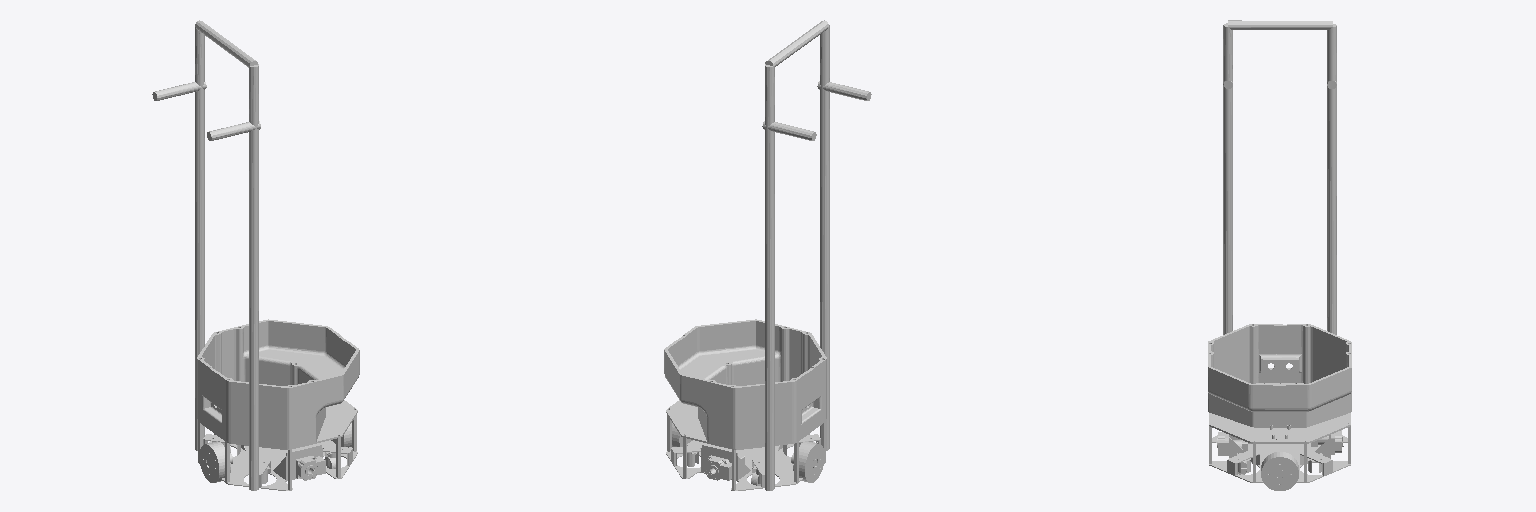
The robot description file, URDF, robot "Test2":
<?xml version="1.0" encoding="utf-8"?>
<!-- This URDF was automatically created by SolidWorks to URDF Exporter! Originally created by Stephen Brawner (brawner@gmail.com) 
     Commit Version: 1.6.0-4-g7f85cfe  Build Version: 1.6.7995.38578
     For more information, please see http://wiki.ros.org/sw_urdf_exporter -->
<robot
  name="Test2">
  <link
    name="base_footprint_link">
    <inertial>
      <origin
        xyz="0.000126428365801901 0.0570246565053552 0.394983107885768"
        rpy="0 0 0" />
      <mass
        value="7.97077901603284" />
      <inertia
        ixx="0.50664544516354"
        ixy="6.52709621714096E-05"
        ixz="4.14803459811455E-05"
        iyy="0.564704136033589"
        iyz="-0.00421606646723282"
        izz="0.138133376970923" />
    </inertial>
    <visual>
      <origin
        xyz="0 0 0"
        rpy="0 0 0" />
      <geometry>
        <mesh
          filename="package://my_robot_description/meshes/base_footprint_link.STL" />
      </geometry>
      <material
        name="">
        <color
          rgba="0.858823529411765 0.858823529411765 0.858823529411765 0.1" />
      </material>
    </visual>
    <collision>
      <origin
        xyz="0 0 0"
        rpy="0 0 0" />
      <geometry>
        <mesh
          filename="package://my_robot_description/meshes/base_footprint_link.STL" />
      </geometry>
    </collision>
  </link>
  <link
    name="MWR_Link">
    <inertial>
      <origin
        xyz="-3.61866692166757E-07 0.00169749189013735 -2.05963571309198E-07"
        rpy="0 0 0" />
      <mass
        value="0.466851252756426" />
      <inertia
        ixx="0.00044060625166746"
        ixy="-3.2458431634984E-09"
        ixz="9.82786682125029E-09"
        iyy="0.000814141386237763"
        iyz="-1.84743702542368E-09"
        izz="0.000440594578385447" />
    </inertial>
    <visual>
      <origin
        xyz="0 0 0"
        rpy="0 0 0" />
      <geometry>
        <mesh
          filename="package://my_robot_description/meshes/MWR_Link.STL" />
      </geometry>
      <material
        name="">
        <color
          rgba="0.858823529411765 0.858823529411765 0.858823529411765 0.1" />
      </material>
    </visual>
    <collision>
      <origin
        xyz="0 0 0"
        rpy="0 0 0" />
      <geometry>
        <mesh
          filename="package://my_robot_description/meshes/MWR_Link.STL" />
      </geometry>
    </collision>
  </link>
  <joint
    name="MWR_Link_J"
    type="continuous">
    <origin
      xyz="-0.216776423903856 -0.000766901244620533 0.0599999999991945"
      rpy="0 0 -1.5707963267949" />
    <parent
      link="base_footprint_link" />
    <child
      link="MWR_Link" />
    <axis
      xyz="0 -1 0" />
  </joint>
  <link
    name="MWL_Link">
    <inertial>
      <origin
        xyz="-1.24078525232107E-12 -3.46322112876329E-05 -7.88480392088786E-13"
        rpy="0 0 0" />
      <mass
        value="0.445537025884621" />
      <inertia
        ixx="0.00043646303054229"
        ixy="1.26999517873765E-18"
        ixz="-1.24198924934284E-08"
        iyy="0.00080980686348029"
        iyz="7.74774961068238E-19"
        izz="0.000436448278520281" />
    </inertial>
    <visual>
      <origin
        xyz="0 0 0"
        rpy="0 0 0" />
      <geometry>
        <mesh
          filename="package://my_robot_description/meshes/MWL_Link.STL" />
      </geometry>
      <material
        name="">
        <color
          rgba="0.858823529411765 0.858823529411765 0.858823529411765 0.1" />
      </material>
    </visual>
    <collision>
      <origin
        xyz="0 0 0"
        rpy="0 0 0" />
      <geometry>
        <mesh
          filename="package://my_robot_description/meshes/MWL_Link.STL" />
      </geometry>
    </collision>
  </link>
  <joint
    name="MWL_Link_J"
    type="continuous">
    <origin
      xyz="0.216357647877959 0.000325691445492771 0.0600000000008103"
      rpy="0 0 -1.5707963267949" />
    <parent
      link="base_footprint_link" />
    <child
      link="MWL_Link" />
    <axis
      xyz="0 -1 0" />
  </joint>
  <link
    name="CFR_Link">
    <inertial>
      <origin
        xyz="0 -1.11022302462516E-16 0"
        rpy="0 0 0" />
      <mass
        value="0.0225801971976767" />
      <inertia
        ixx="4.27698207368044E-06"
        ixy="4.30587632545263E-38"
        ixz="-1.01562978102684E-38"
        iyy="7.87603463265499E-06"
        iyz="-1.19105784889192E-20"
        izz="4.27698207368044E-06" />
    </inertial>
    <visual>
      <origin
        xyz="0 0 0"
        rpy="0 0 0" />
      <geometry>
        <mesh
          filename="package://my_robot_description/meshes/CFR_Link.STL" />
      </geometry>
      <material
        name="">
        <color
          rgba="0.858823529411765 0.858823529411765 0.858823529411765 0.1" />
      </material>
    </visual>
    <collision>
      <origin
        xyz="0 0 0"
        rpy="0 0 0" />
      <geometry>
        <mesh
          filename="package://my_robot_description/meshes/CFR_Link.STL" />
      </geometry>
    </collision>
  </link>
  <joint
    name="CFR_Link_J"
    type="continuous">
    <origin
      xyz="-0.1125 -0.125 0.0265"
      rpy="0 0 -1.5708" />
    <parent
      link="base_footprint_link" />
    <child
      link="CFR_Link" />
    <axis
      xyz="0 1 0" />
  </joint>
  <link
    name="CBR_Link">
    <inertial>
      <origin
        xyz="1.11022302462516E-16 -5.55111512312578E-17 0"
        rpy="0 0 0" />
      <mass
        value="0.0225801971976767" />
      <inertia
        ixx="4.27698207368044E-06"
        ixy="4.30587632545263E-38"
        ixz="-1.01562978102688E-38"
        iyy="7.87603463265499E-06"
        iyz="-1.18046993705124E-20"
        izz="4.27698207368044E-06" />
    </inertial>
    <visual>
      <origin
        xyz="0 0 0"
        rpy="0 0 0" />
      <geometry>
        <mesh
          filename="package://my_robot_description/meshes/CBR_Link.STL" />
      </geometry>
      <material
        name="">
        <color
          rgba="0.858823529411765 0.858823529411765 0.858823529411765 0.1" />
      </material>
    </visual>
    <collision>
      <origin
        xyz="0 0 0"
        rpy="0 0 0" />
      <geometry>
        <mesh
          filename="package://my_robot_description/meshes/CBR_Link.STL" />
      </geometry>
    </collision>
  </link>
  <joint
    name="CBR_Link_J"
    type="continuous">
    <origin
      xyz="-0.1125 0.125 0.0265"
      rpy="0 0 -1.5708" />
    <parent
      link="base_footprint_link" />
    <child
      link="CBR_Link" />
    <axis
      xyz="0 1 0" />
  </joint>
  <link
    name="CFL_Link">
    <inertial>
      <origin
        xyz="1.11022302462516E-16 -1.11022302462516E-16 -4.44089209850063E-16"
        rpy="0 0 0" />
      <mass
        value="0.0225801971976767" />
      <inertia
        ixx="4.27698207368044E-06"
        ixy="4.30587632545263E-38"
        ixz="-1.01562978102684E-38"
        iyy="7.87603463265499E-06"
        iyz="-1.19105784889192E-20"
        izz="4.27698207368045E-06" />
    </inertial>
    <visual>
      <origin
        xyz="0 0 0"
        rpy="0 0 0" />
      <geometry>
        <mesh
          filename="package://my_robot_description/meshes/CFL_Link.STL" />
      </geometry>
      <material
        name="">
        <color
          rgba="0.858823529411765 0.858823529411765 0.858823529411765 0.1" />
      </material>
    </visual>
    <collision>
      <origin
        xyz="0 0 0"
        rpy="0 0 0" />
      <geometry>
        <mesh
          filename="package://my_robot_description/meshes/CFL_Link.STL" />
      </geometry>
    </collision>
  </link>
  <joint
    name="CFL_Link_J"
    type="continuous">
    <origin
      xyz="0.1125 -0.125 0.0265"
      rpy="0 0 -1.5708" />
    <parent
      link="base_footprint_link" />
    <child
      link="CFL_Link" />
    <axis
      xyz="0 -1 0" />
  </joint>
  <link
    name="CBL_Link">
    <inertial>
      <origin
        xyz="0 -1.11022302462516E-16 0"
        rpy="0 0 0" />
      <mass
        value="0.0225801971976767" />
      <inertia
        ixx="4.27698207368044E-06"
        ixy="4.30587632545263E-38"
        ixz="-1.01562978102684E-38"
        iyy="7.87603463265499E-06"
        iyz="-1.19105784889192E-20"
        izz="4.27698207368045E-06" />
    </inertial>
    <visual>
      <origin
        xyz="0 0 0"
        rpy="0 0 0" />
      <geometry>
        <mesh
          filename="package://my_robot_description/meshes/CBL_Link.STL" />
      </geometry>
      <material
        name="">
        <color
          rgba="0.858823529411765 0.858823529411765 0.858823529411765 0.1" />
      </material>
    </visual>
    <collision>
      <origin
        xyz="0 0 0"
        rpy="0 0 0" />
      <geometry>
        <mesh
          filename="package://my_robot_description/meshes/CBL_Link.STL" />
      </geometry>
    </collision>
  </link>
  <joint
    name="CBL_Link_J"
    type="continuous">
    <origin
      xyz="0.1125 0.125 0.0265"
      rpy="0 0 -1.5708" />
    <parent
      link="base_footprint_link" />
    <child
      link="CBL_Link" />
    <axis
      xyz="0 -1 0" />
  </joint>
  <link
    name="Lidar_Link">
    <inertial>
      <origin
        xyz="0.0120605327296016 -0.000533080581163081 -0.0190152625283724"
        rpy="0 0 0" />
      <mass
        value="0.0730815505731107" />
      <inertia
        ixx="1.95791675867893E-05"
        ixy="-1.04522220201912E-07"
        ixz="-4.28234106282814E-07"
        iyy="2.41258096035393E-05"
        iyz="9.34338284432621E-09"
        izz="4.14174358775508E-05" />
    </inertial>
    <visual>
      <origin
        xyz="0 0 0"
        rpy="0 0 0" />
      <geometry>
        <mesh
          filename="package://my_robot_description/meshes/Lidar_Link.STL" />
      </geometry>
      <material
        name="">
        <color
          rgba="0.752941176470588 0.752941176470588 0.752941176470588 1" />
      </material>
    </visual>
    <collision>
      <origin
        xyz="0 0 0"
        rpy="0 0 0" />
      <geometry>
        <mesh
          filename="package://my_robot_description/meshes/Lidar_Link.STL" />
      </geometry>
    </collision>
  </link>
  <joint
    name="Lidar_Link_J"
    type="fixed">
    <origin
      xyz="0.0007669 -0.156 0.22275"
      rpy="0 0 -1.5708" />
    <parent
      link="base_footprint_link" />
    <child
      link="Lidar_Link" />
    <axis
      xyz="0 0 0" />
  </joint>
  <link
    name="MPU_Link">
    <inertial>
      <origin
        xyz="0.000548666975906498 6.86596336055278E-05 -0.00212070510127393"
        rpy="0 0 0" />
      <mass
        value="0.000999898118986847" />
      <inertia
        ixx="2.50456299192788E-08"
        ixy="-2.83087758630436E-14"
        ixz="-2.69530310584232E-14"
        iyy="1.2450495325116E-08"
        iyz="-1.16343900762228E-14"
        izz="3.063763531159E-08" />
    </inertial>
    <visual>
      <origin
        xyz="0 0 0"
        rpy="0 0 0" />
      <geometry>
        <mesh
          filename="package://my_robot_description/meshes/MPU_Link.STL" />
      </geometry>
      <material
        name="">
        <color
          rgba="0.752941176470588 0.752941176470588 0.752941176470588 1" />
      </material>
    </visual>
    <collision>
      <origin
        xyz="0 0 0"
        rpy="0 0 0" />
      <geometry>
        <mesh
          filename="package://my_robot_description/meshes/MPU_Link.STL" />
      </geometry>
    </collision>
  </link>
  <joint
    name="MPU_Link_J"
    type="fixed">
    <origin
      xyz="-0.0007669 -0.069786 0.1793"
      rpy="0 0 -1.5708" />
    <parent
      link="base_footprint_link" />
    <child
      link="MPU_Link" />
    <axis
      xyz="0 0 0" />
  </joint>
</robot>

--- Render facts (derived) ---
3 views of the same robot in one strip: view 1: azimuth 30°, elevation 25°; view 2: azimuth 150°, elevation 25°; view 3: azimuth 270°, elevation 25° (orthographic).
Model Test2 with 9 links and 8 joints (6 continuous, 2 fixed), rooted at base_footprint_link, posed all joints at 0.
Visible links, largest first — view 1: base_footprint_link, MWR_Link; view 2: base_footprint_link, MWR_Link; view 3: base_footprint_link, MWL_Link.
Link boxes in pixels (x1,y1,x2,y2): base_footprint_link: (152,20,359,490); MWR_Link: (199,441,232,482); base_footprint_link: (664,20,871,490); MWR_Link: (791,441,824,482); base_footprint_link: (1208,20,1351,482); MWL_Link: (1261,452,1298,490).
Size in the robot's own frame: 0.567 by 0.4566 by 1.44 metres.
6 mesh visuals loaded from 9 distinct referenced files (6 binary STL); not drawn: 3 (reference not matched to a file when rendering).
